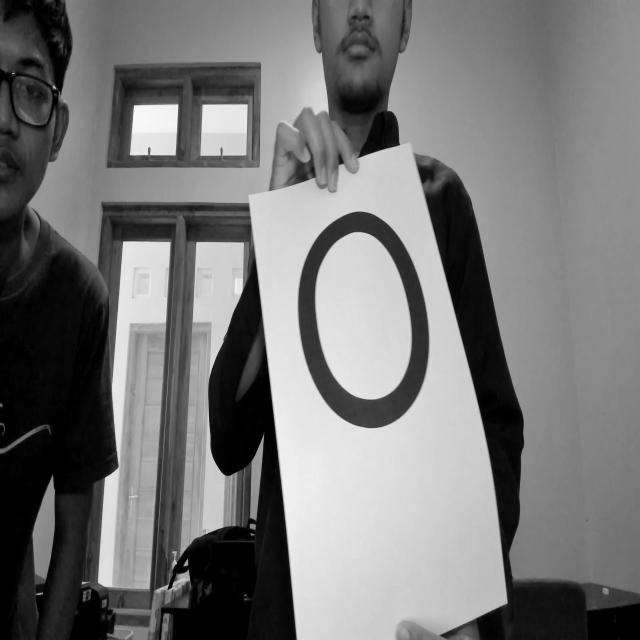o: (289, 196, 436, 438)
